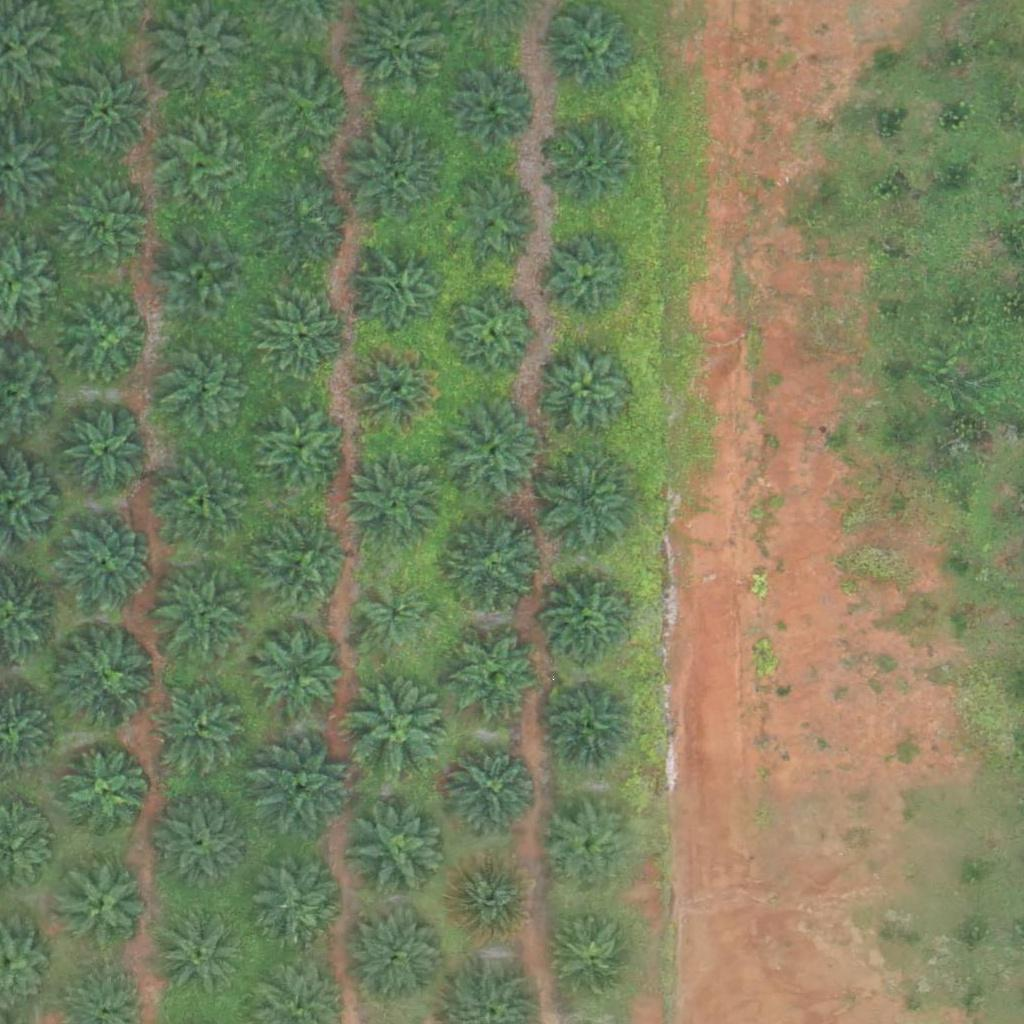Kelapa_Sawit: (56, 173, 156, 274), (347, 129, 447, 230), (351, 680, 451, 781), (251, 400, 351, 501), (252, 516, 352, 617), (250, 740, 350, 841), (157, 336, 257, 437), (154, 453, 254, 554), (153, 562, 253, 663), (152, 679, 252, 780), (150, 795, 250, 896), (53, 513, 153, 614), (58, 626, 158, 727), (349, 801, 449, 902), (347, 905, 447, 1006), (259, 55, 359, 155), (258, 175, 358, 275), (536, 450, 636, 550), (441, 402, 541, 502), (443, 516, 543, 616), (346, 454, 446, 554), (157, 117, 245, 205), (160, 236, 248, 324), (447, 65, 535, 153), (549, 121, 637, 209), (545, 235, 633, 323), (546, 345, 634, 433), (453, 632, 541, 720), (447, 742, 535, 830), (260, 292, 348, 380), (60, 750, 148, 838), (60, 863, 148, 951), (158, 909, 246, 997), (447, 853, 535, 941), (552, 916, 640, 1004), (64, 66, 151, 154), (451, 177, 538, 265), (356, 249, 443, 337), (546, 582, 633, 670), (547, 679, 634, 767), (546, 805, 633, 893), (448, 288, 535, 376), (352, 346, 439, 434), (255, 628, 342, 716), (60, 295, 147, 383), (63, 410, 150, 498), (262, 856, 349, 944), (358, 582, 433, 658)
